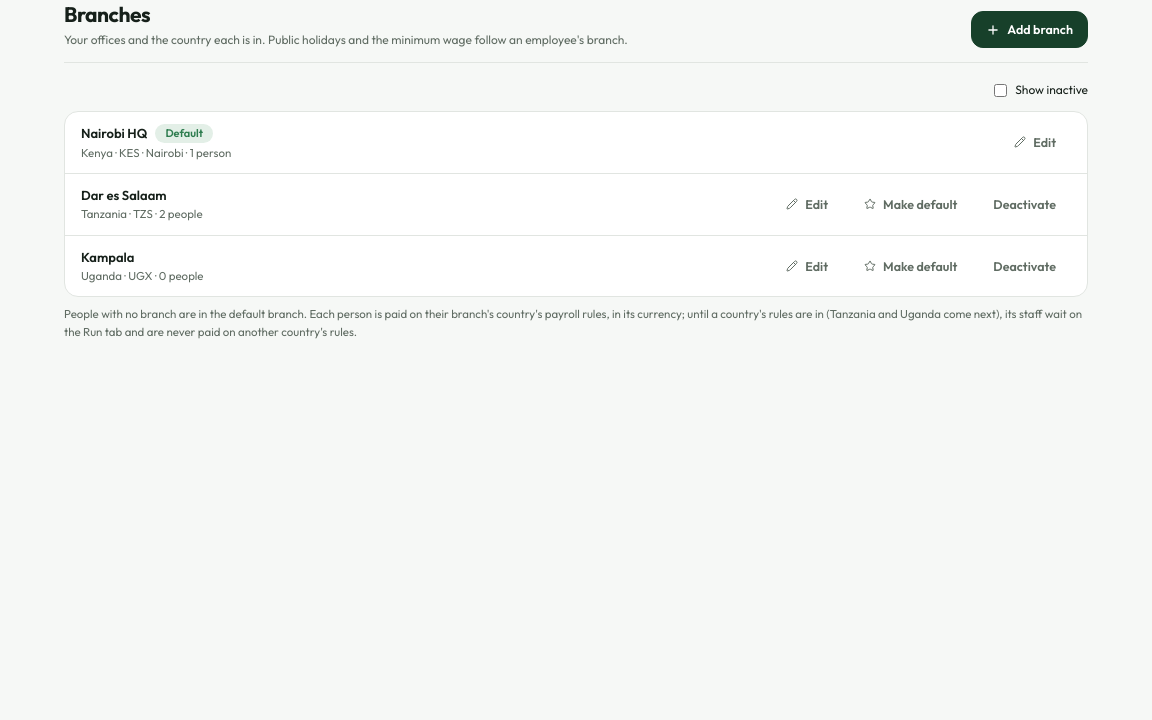
Scenario: Branches page › adds a branch, the currency following the country
Later steps or results of the test are not shown.
Click the button "Add branch": click(1030, 30) [971, 11, 1088, 48]
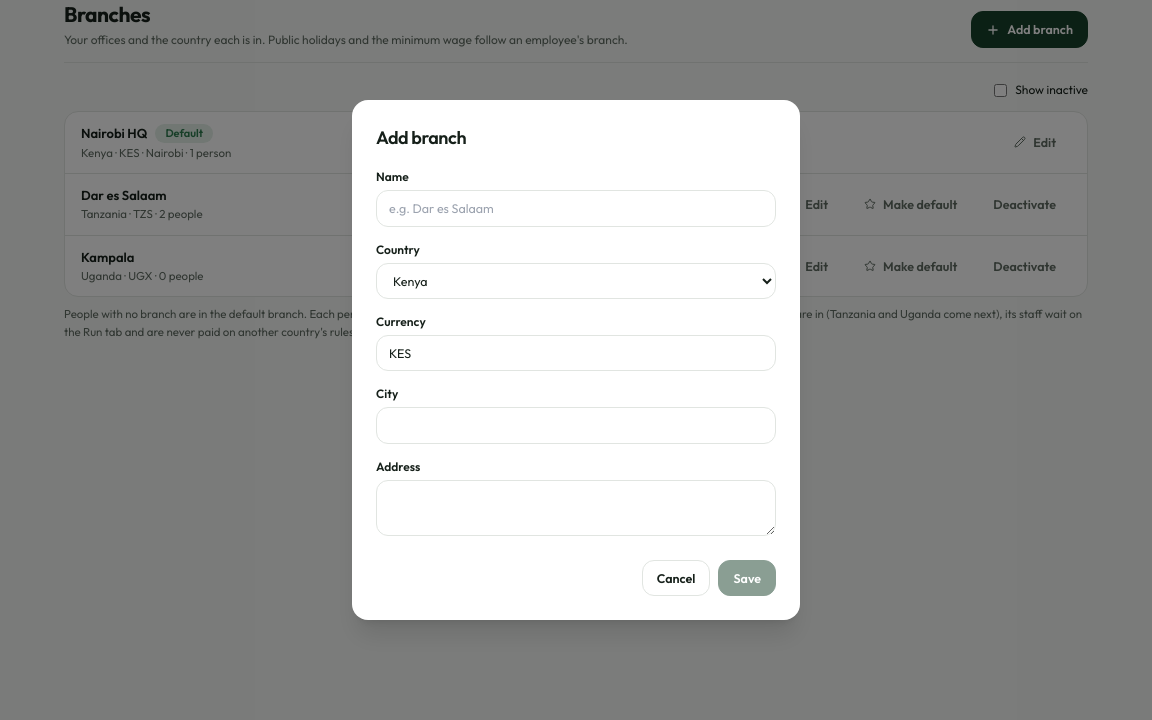
In the field labelled "Name": (576, 208) [376, 190, 776, 227], type "Arusha"
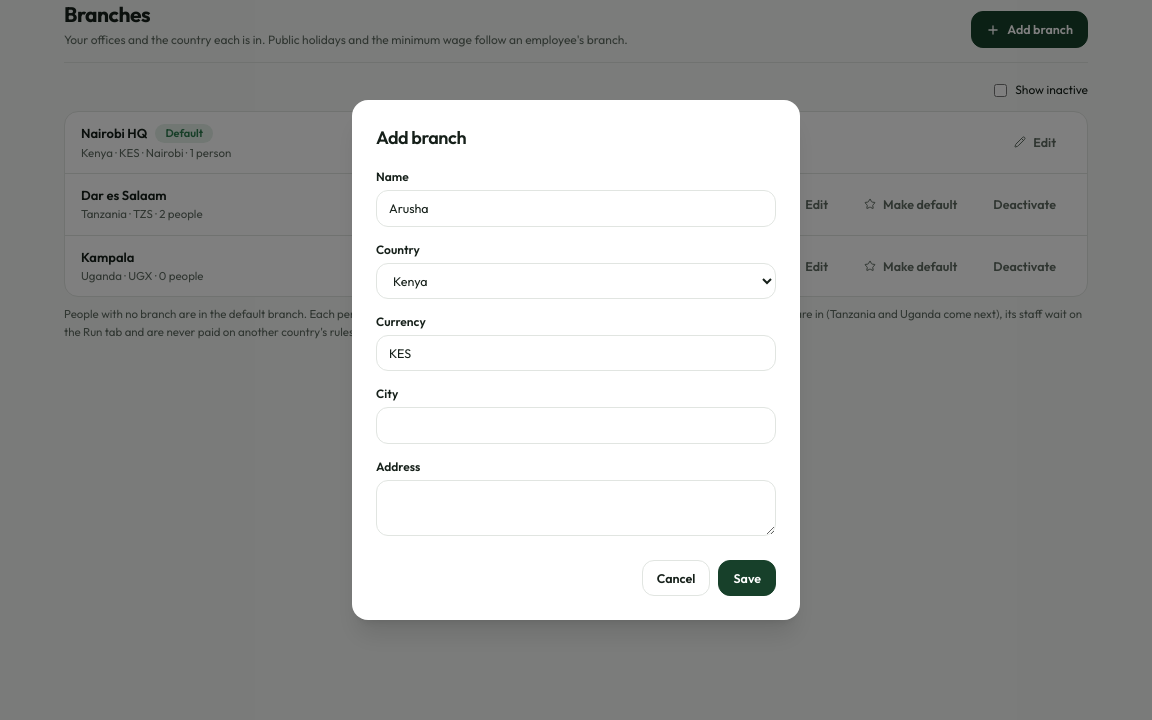
Select "Tanzania" in the dropdown labelled "Country": (576, 280) [376, 262, 776, 298]
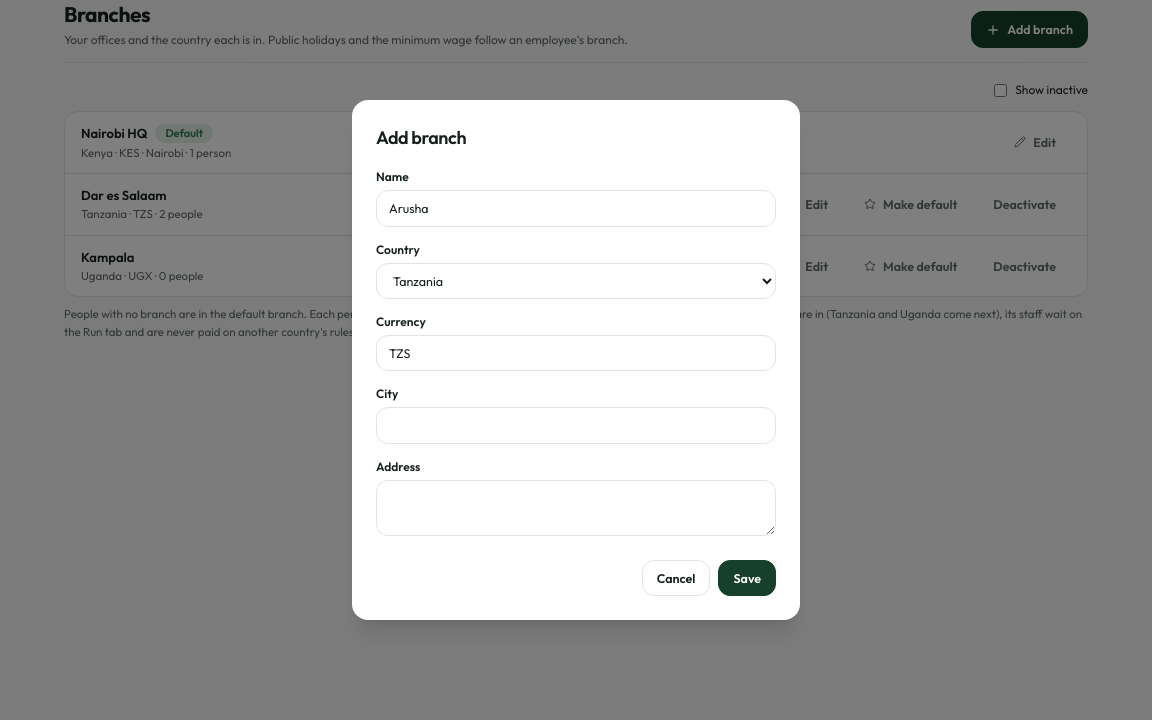
Now the field labelled "Currency" holds "TZS", box [376, 334, 776, 371]
